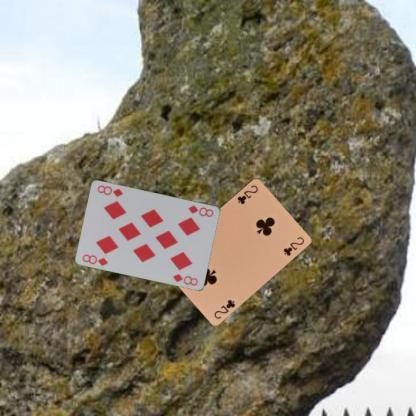2c: (211, 296, 237, 320), (235, 182, 260, 205)
8d: (185, 202, 215, 218), (80, 251, 110, 267)
